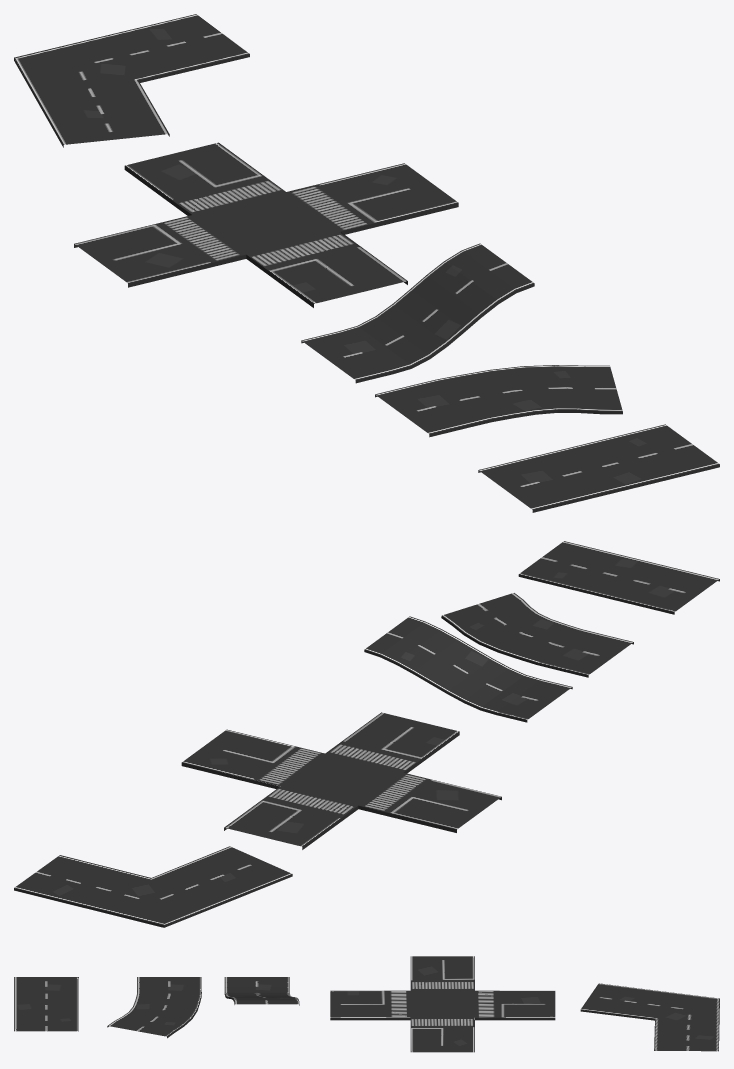
Rendered from road.fbx.
3 views of the same model, one above another, from view 1: azimuth 30°, elevation 25°; view 2: azimuth 150°, elevation 25°; view 3: azimuth 270°, elevation 25° (orthographic). The views are drawn at different scales.
Parts seen in each view (by area): view 1: Plane.001, Plane.003, Plane.002, Plane.004, Plane; view 2: Plane.001, Plane.003, Plane.002, Plane.004, Plane; view 3: Plane.001, Plane.003, Plane.004, Plane, Plane.002.
Boxes of the visible parts, box(x1,y1,x2,y2) form: Plane.001: box(74, 142, 458, 307); Plane.003: box(14, 14, 249, 147); Plane.002: box(301, 243, 534, 383); Plane.004: box(375, 365, 622, 437); Plane: box(478, 424, 719, 512); Plane.001: box(181, 712, 501, 849); Plane.003: box(14, 846, 292, 927); Plane.002: box(364, 616, 572, 722); Plane.004: box(441, 593, 633, 677); Plane: box(518, 541, 719, 614); Plane.001: box(330, 956, 555, 1052); Plane.003: box(580, 983, 719, 1051); Plane.004: box(107, 977, 201, 1038); Plane: box(14, 977, 78, 1031); Plane.002: box(224, 977, 299, 1005).
Bounding box in the file's own units: 1412 × 202 × 4389.
